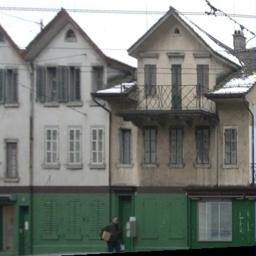building: (21, 0, 225, 256)
